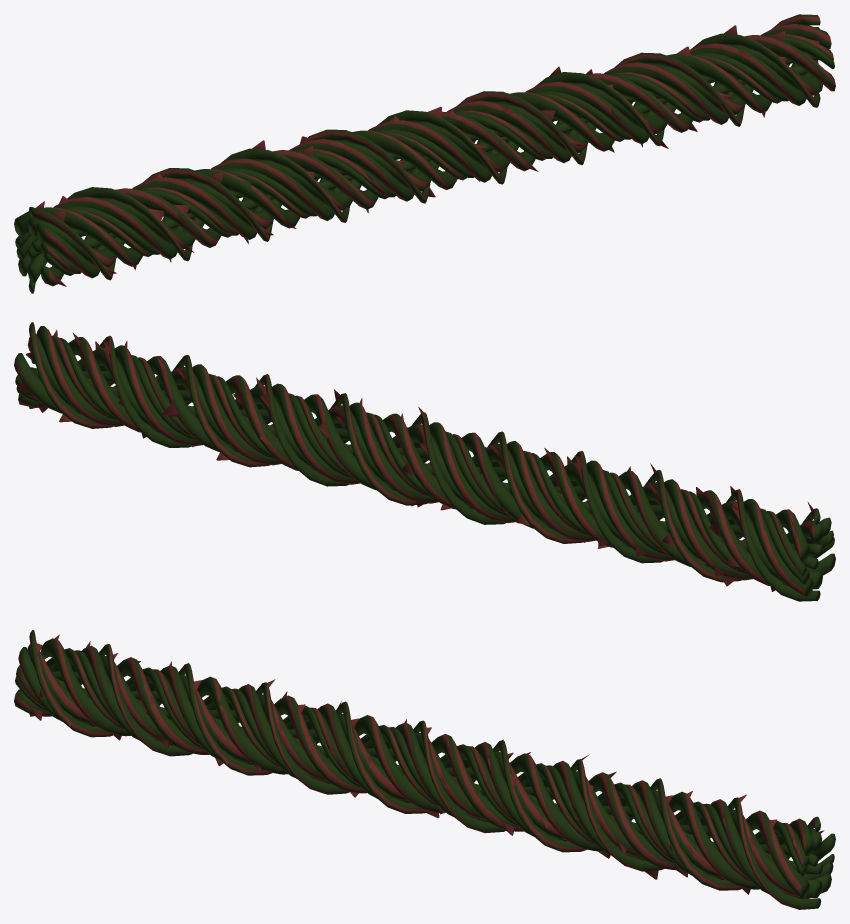
The model's file is ENV_Vine_Floor.V2.fbx.
The picture shows the model from 3 angles, top to bottom: view 1: azimuth 30°, elevation 25°; view 2: azimuth 150°, elevation 25°; view 3: azimuth 330°, elevation 25°; orthographic projection.
Visible parts, largest first — view 1: Vine_Rotater; view 2: Vine_Rotater; view 3: Vine_Rotater.
Part boxes in pixels (x1=…): Vine_Rotater: x1=14, y1=14, x2=835, y2=293; Vine_Rotater: x1=14, y1=322, x2=835, y2=601; Vine_Rotater: x1=14, y1=630, x2=835, y2=909.
Bounding box in the file's own units: 110 × 955 × 112.
